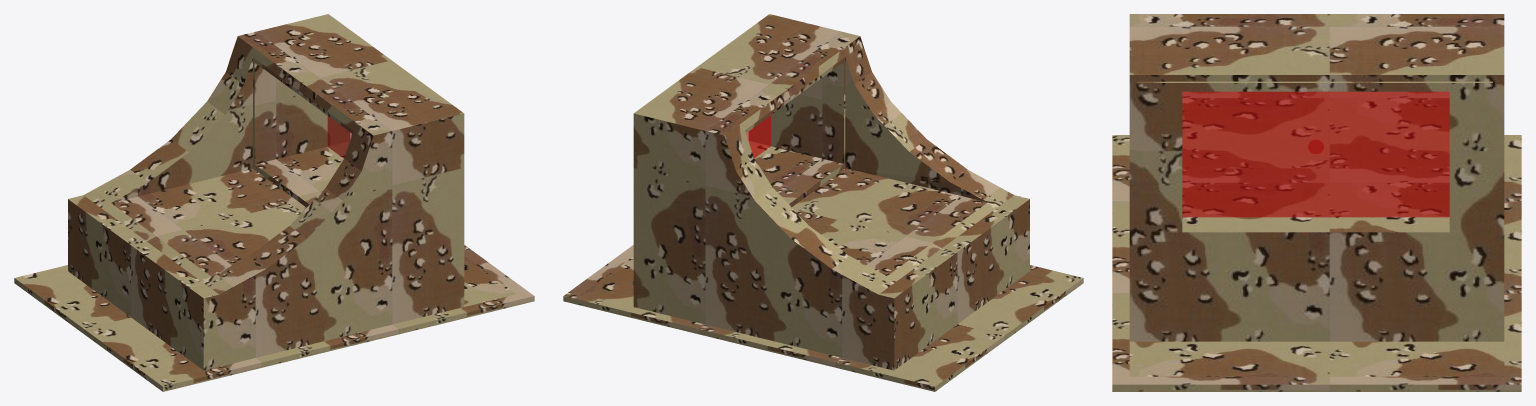
File: Red dot sight Camo.fbx
3 renders of one model, left to right at view 1: azimuth 30°, elevation 25°; view 2: azimuth 150°, elevation 25°; view 3: azimuth 270°, elevation 25°, orthographic. The views are drawn at different scales.
Parts seen in each view (by area): view 1: Model; view 2: Model; view 3: Model.
Part boxes in pixels (<box>): Model: <box>14,14,534,391</box>; Model: <box>563,14,1083,391</box>; Model: <box>1112,14,1521,391</box>.
Size of the model in its own units: 8.29 by 4.24 by 5.74.
